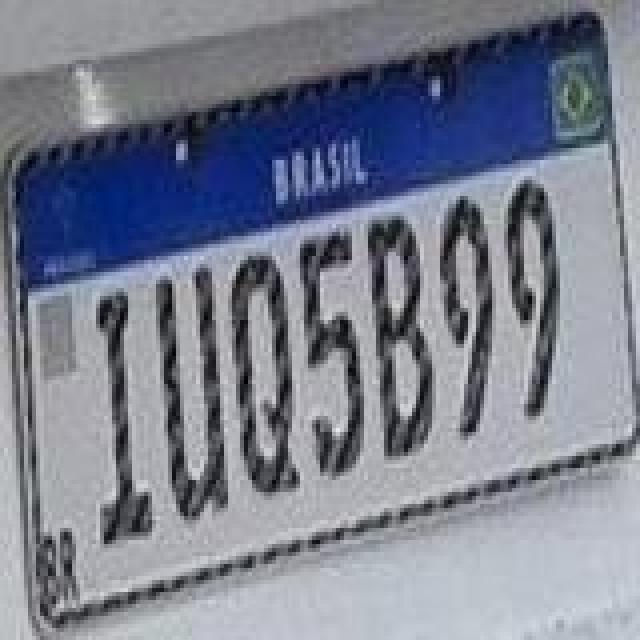5: (300, 220, 372, 484)
9: (434, 190, 494, 442), (502, 178, 562, 422)
B: (364, 210, 436, 462)
I: (98, 284, 158, 548)
Q: (228, 250, 300, 502)
U: (154, 260, 230, 524)
